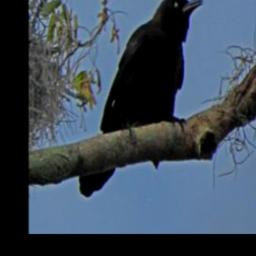Crow: (78, 0, 203, 198)
